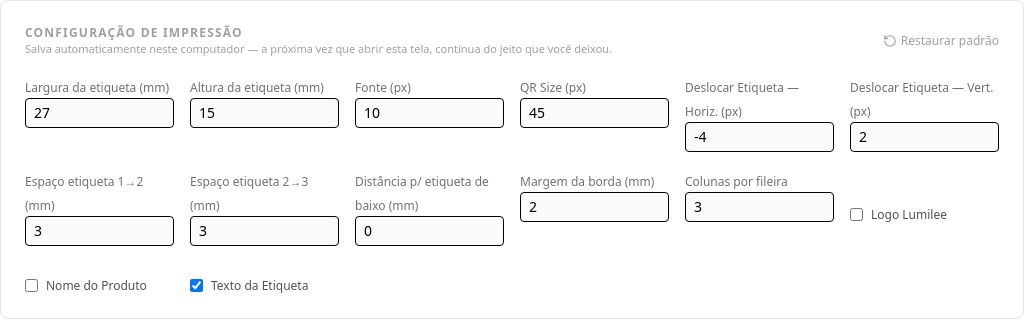
Test: LabelPrintConfigPanel › aumentar colunas por fileira cria novos campos de vão (reusando o último valor)
Replace the text in the field labelled "Colunas por fileira" with "4". click: (760,206)
box: top-left (685, 192), bottom-right (834, 222)
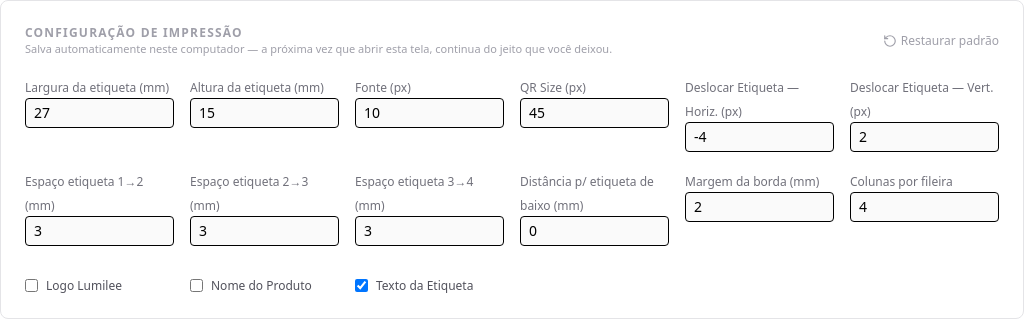
Expected: the field labelled "Espaço etiqueta 1→2 (mm)" holds "3", top-left (25, 216), bottom-right (174, 246)
Result: the field labelled "Espaço etiqueta 3→4 (mm)" holds "3" at top-left (355, 216), bottom-right (504, 246)
